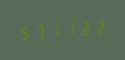five: (17, 23, 31, 42)
one: (48, 21, 62, 40), (63, 19, 77, 38)
seven: (32, 22, 46, 41)
two: (78, 18, 92, 37), (93, 17, 107, 36)
